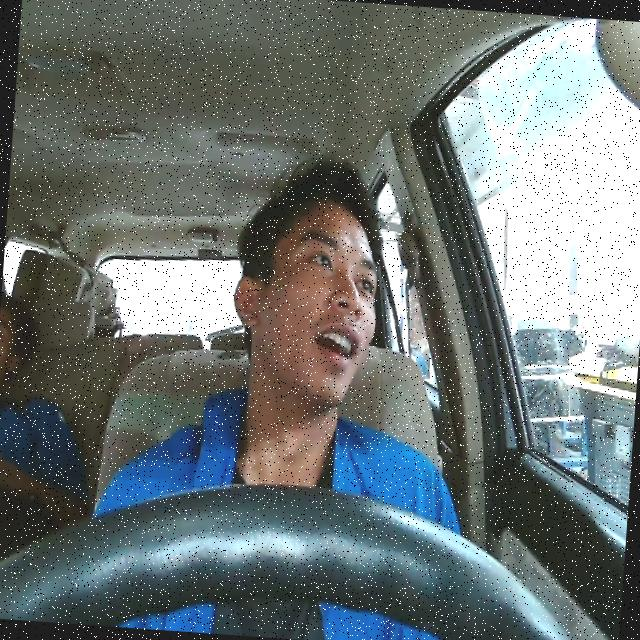yarning: (226, 192, 384, 408)
